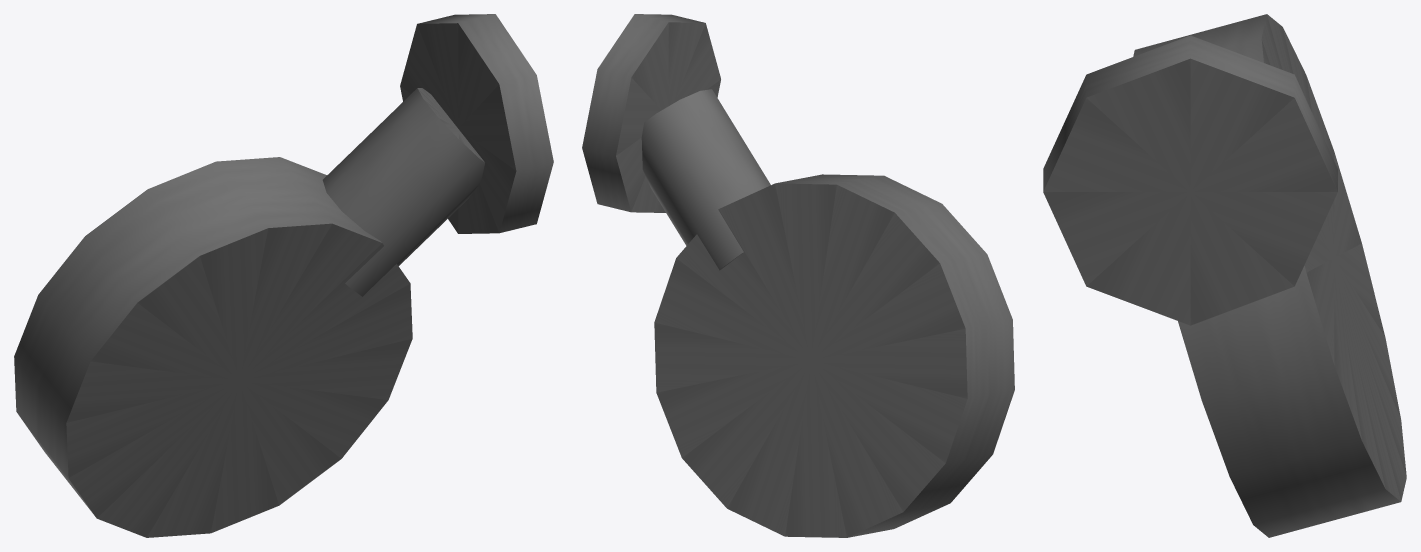
Rendered from mastarmcurve_4x1_c2_east.obj.
3 renders of one model, left to right at view 1: azimuth 30°, elevation 25°; view 2: azimuth 150°, elevation 25°; view 3: azimuth 270°, elevation 25°, orthographic. The views are drawn at different scales.
Parts seen in each view (by area): view 1: mastarm_4x1_c2_east; view 2: mastarm_4x1_c2_east; view 3: mastarm_4x1_c2_east.
Boxes of the visible parts, box(x1,y1,x2,y2) form: mastarm_4x1_c2_east: box(14, 14, 553, 537); mastarm_4x1_c2_east: box(582, 14, 1014, 537); mastarm_4x1_c2_east: box(1043, 14, 1406, 537).
Size of the model in its own units: 0.843 by 0.9146 by 0.4936.
